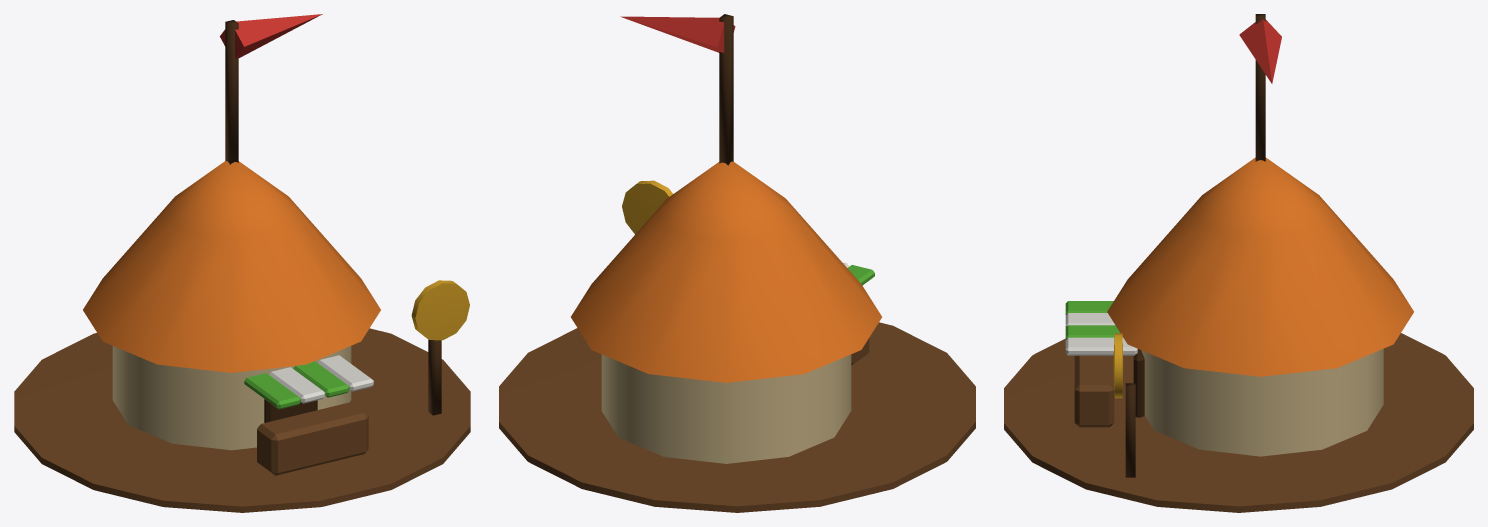
3 views of the same model, side by side, from view 1: azimuth 30°, elevation 25°; view 2: azimuth 150°, elevation 25°; view 3: azimuth 270°, elevation 25° (orthographic). The views are drawn at different scales.
Visible parts, largest first — view 1: vila_0_base, vila_1_torreta; view 2: vila_0_base, vila_1_torreta; view 3: vila_0_base, vila_1_torreta.
Boxes of the visible parts, x1,y1,x2,y2 form: vila_0_base: (14,161,470,512); vila_1_torreta: (220,14,322,164); vila_0_base: (499,161,975,512); vila_1_torreta: (620,14,735,165); vila_0_base: (1004,157,1473,512); vila_1_torreta: (1239,14,1281,161).
Bounding box in the file's own units: 1.32 × 1.21 × 1.3.
